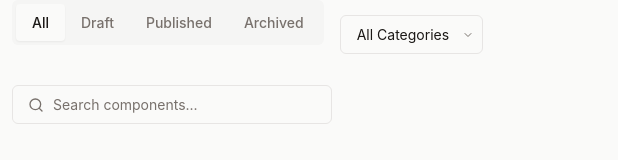
Test case: ComponentFilters › Clear Filters › shows clear filters button when search has value
The image size is (618, 160).
Step 1. Type "test" into the field with placeholder "Search components..." → (172, 104), box [12, 85, 332, 124]
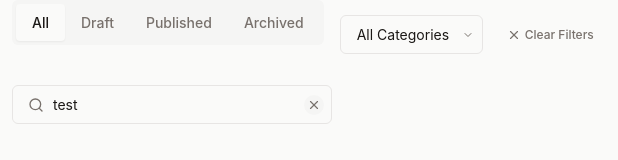
Now the button "Clear Filters" is shown, box [499, 24, 602, 46]
